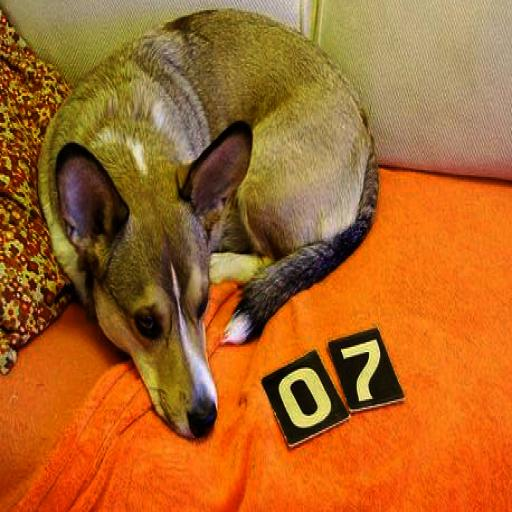dog_face: (55, 137, 250, 429)
